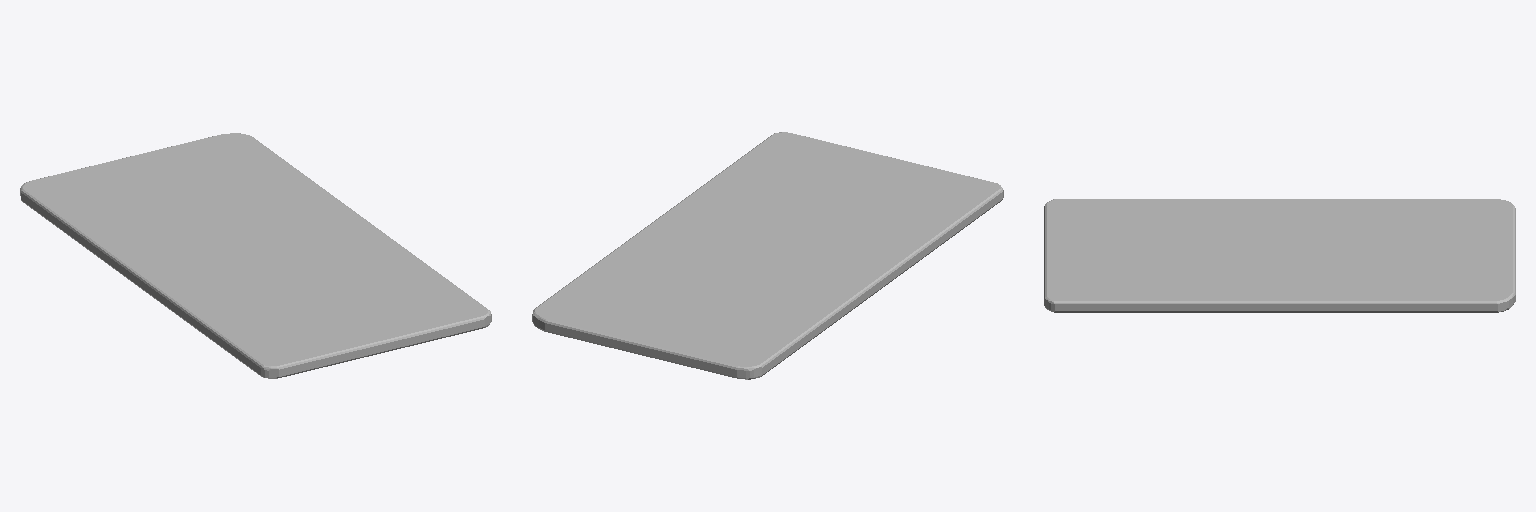
URDF robot description (root):
<robot name="root">
  <link name="link_coacd_convex_piece_0">
    <inertial>
      <origin xyz="0 0 0" rpy="0 0 0"/>
      <inertia ixx="1.55E-02" ixy="-9.18E-05" ixz="-7.44E-06" iyy="4.22E-03" iyz="-1.21E-05" izz="1.97E-02"/>
    </inertial>
    <visual>
      <origin xyz="0 0 0" rpy="0 0 0"/>
      <geometry>
        <mesh filename="coacd_convex_piece_0.obj" scale="1.0000E+00 1.0000E+00 1.0000E+00"/>
      </geometry>
      <material name="">
        <color rgba="7.50E-01 7.50E-01 7.50E-01 1"/>
      </material>
    </visual>
    <collision>
      <origin xyz="0 0 0" rpy="0 0 0"/>
      <geometry>
        <mesh filename="coacd_convex_piece_0.obj" scale="1.0000E+00 1.0000E+00 1.0000E+00"/>
      </geometry>
    </collision>
  </link>
</robot>

--- Facts derived from the render (not from the file) ---
The picture shows the robot from 3 angles, left to right: view 1: azimuth 30°, elevation 25°; view 2: azimuth 150°, elevation 25°; view 3: azimuth 270°, elevation 25°; orthographic projection.
Robot: root — 1 links, 0 joints (none); root link link_coacd_convex_piece_0; default pose: every joint at zero.
Visible links, largest first — view 1: link_coacd_convex_piece_0; view 2: link_coacd_convex_piece_0; view 3: link_coacd_convex_piece_0.
Link boxes in pixels (x1=…): link_coacd_convex_piece_0: x1=20, y1=133, x2=491, y2=378; link_coacd_convex_piece_0: x1=532, y1=132, x2=1003, y2=379; link_coacd_convex_piece_0: x1=1044, y1=199, x2=1515, y2=312.
Size in the robot's own frame: 0.9213 by 1.77 by 0.0576 metres.
Meshes: 1 distinct files referenced, 1 mesh visuals loaded (1 OBJ).
